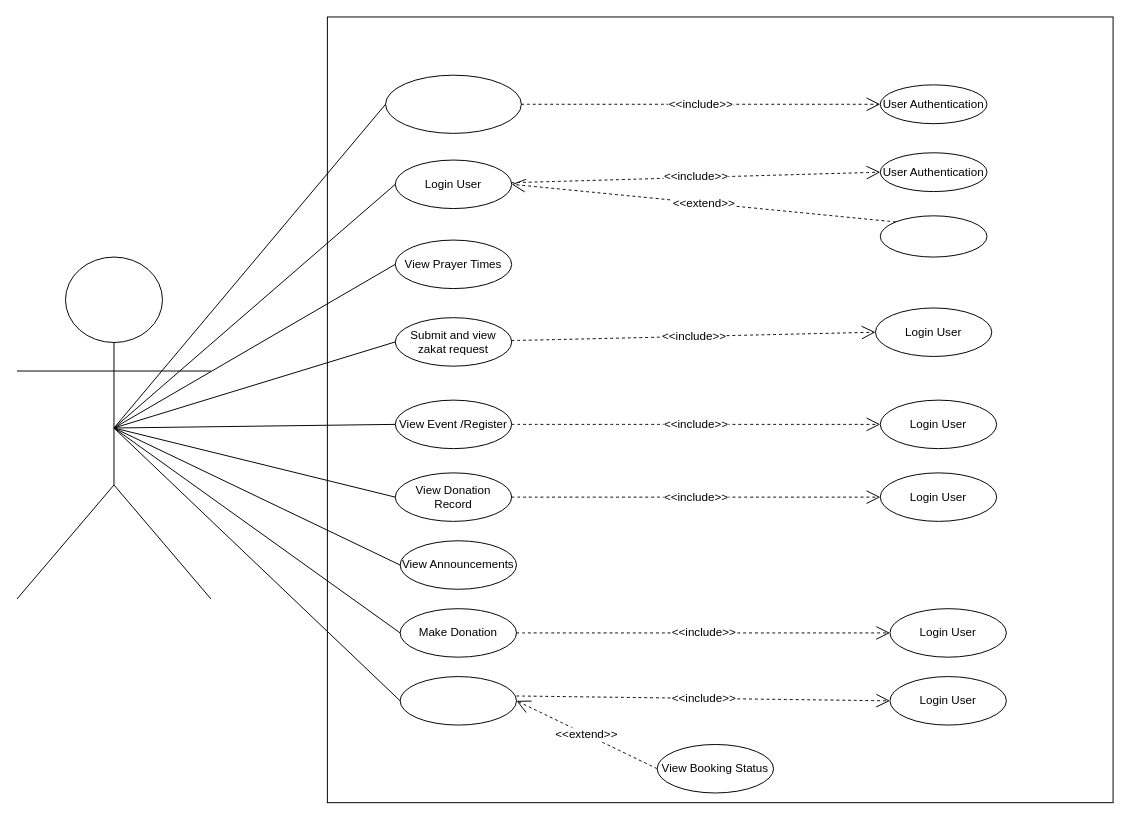
Image size: 1130x820. Some labels were removed from this diagram. The shapes that lost their labels are listed below. From the top down, each one's centre as x and y in pixels, then its label:
(453,103): Register User
(933,236): Forgot Password
(113,427): Community Members
(458,700): Book Nikah Services
